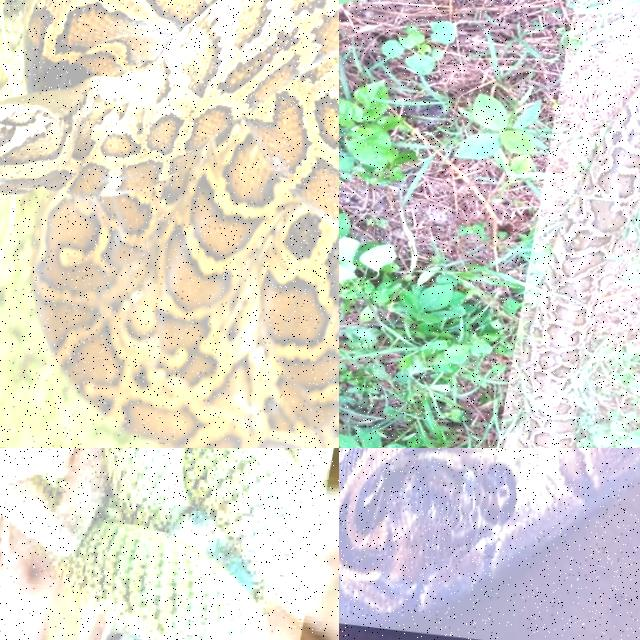Chrysopelea ornata: (50, 448, 332, 639)
Python bivittatus: (0, 0, 338, 447), (339, 448, 639, 628), (502, 86, 639, 447)
snake: (0, 0, 338, 447), (339, 448, 639, 628), (50, 448, 332, 639), (502, 86, 639, 447)
